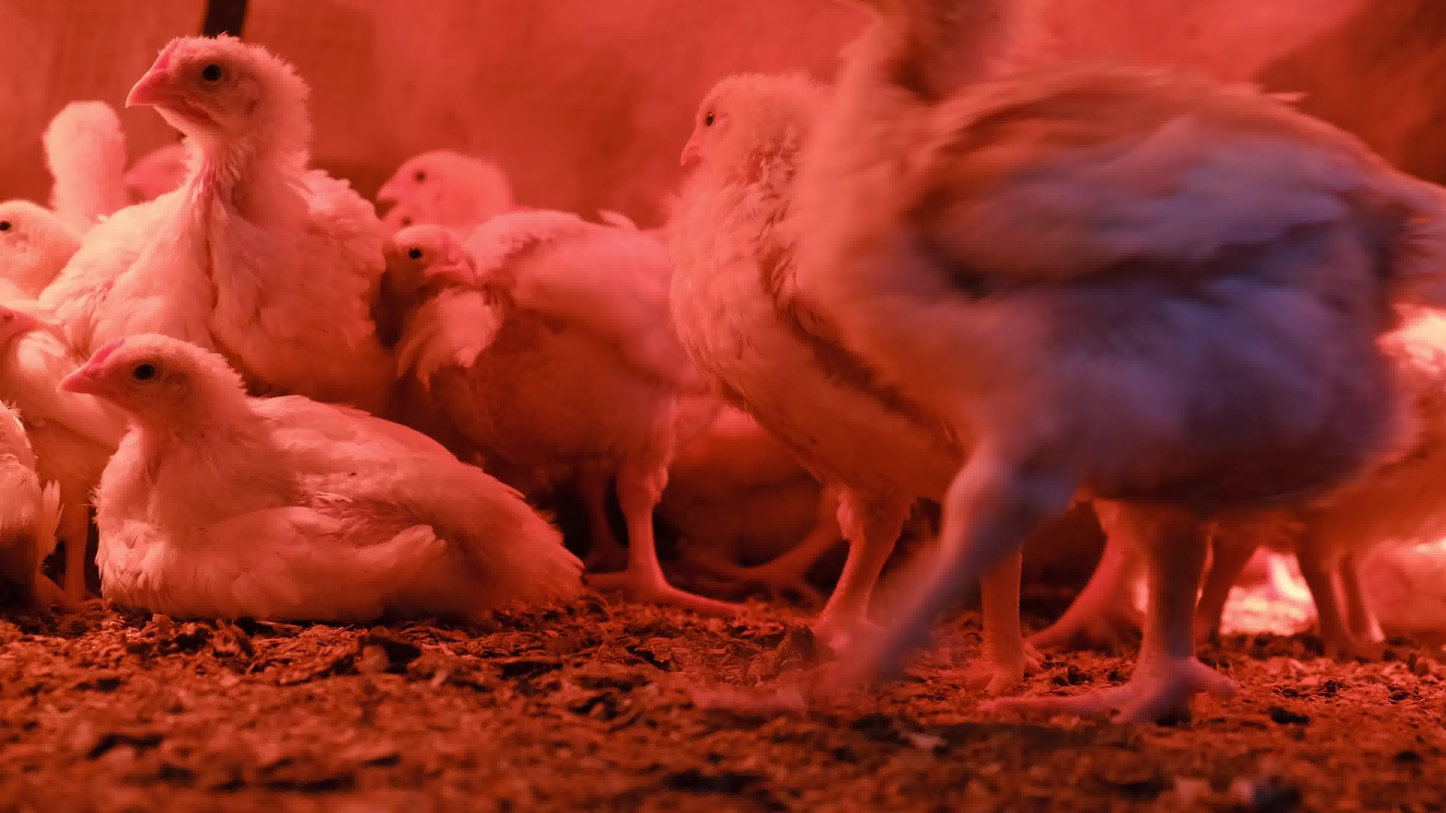AbNormal: (59, 332, 584, 620), (0, 301, 46, 605)
Normal: (789, 0, 1446, 736), (678, 74, 1055, 684), (375, 146, 750, 610), (48, 29, 388, 411), (2, 198, 117, 590), (372, 219, 486, 354), (55, 96, 132, 238)
